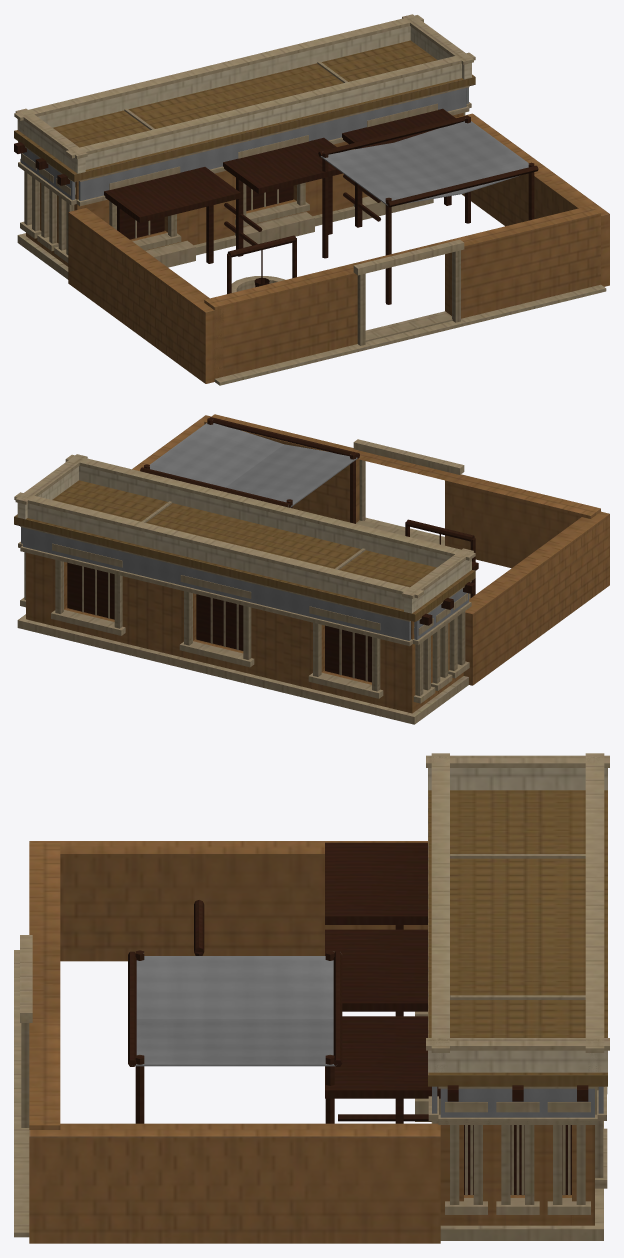
File: road_post.glb
3 views of the same model, one above another, from view 1: azimuth 30°, elevation 25°; view 2: azimuth 150°, elevation 25°; view 3: azimuth 270°, elevation 25° (orthographic). The views are drawn at different scales.
Visible parts, largest first — view 1: LOD0; view 2: LOD0; view 3: LOD0.
Boxes of the visible parts, left/top/right/bottom form: LOD0: left=14, top=14, right=609, bottom=385; LOD0: left=14, top=414, right=609, bottom=724; LOD0: left=14, top=753, right=609, bottom=1243.
Size of what is drawn, in the model's own units: 1.39 by 0.419 by 1.16.
2 materials, 2 textured.
